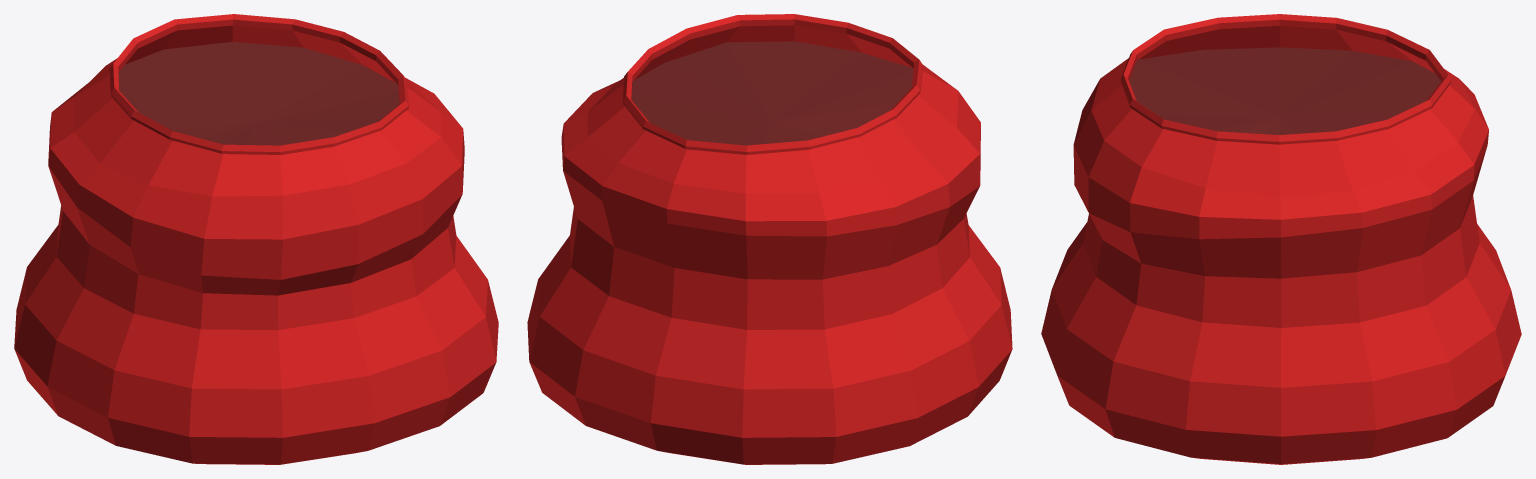
The model's file is fudai.fbx.
The picture shows the model from 3 angles, left to right: view 1: azimuth 30°, elevation 25°; view 2: azimuth 150°, elevation 25°; view 3: azimuth 270°, elevation 25°; orthographic projection.
Parts seen in each view (by area): view 1: 1_379; view 2: 1_379; view 3: 1_379.
Part boxes in pixels (x1=…): 1_379: x1=14, y1=14, x2=498, y2=464; 1_379: x1=527, y1=14, x2=1012, y2=464; 1_379: x1=1041, y1=14, x2=1521, y2=464.
Size of the model in its own units: 216 by 151 by 212.
